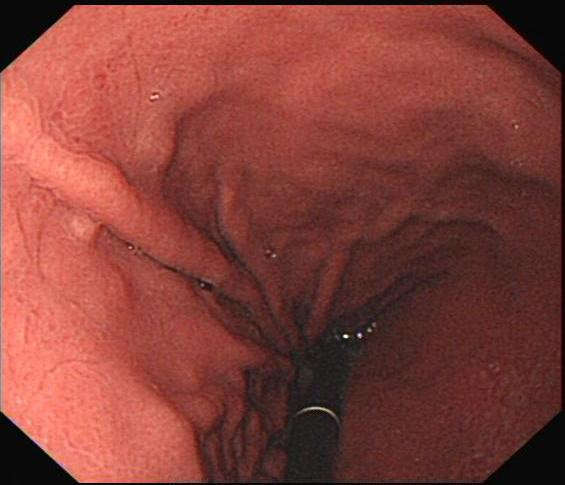Polyp: (59, 198, 118, 259)
